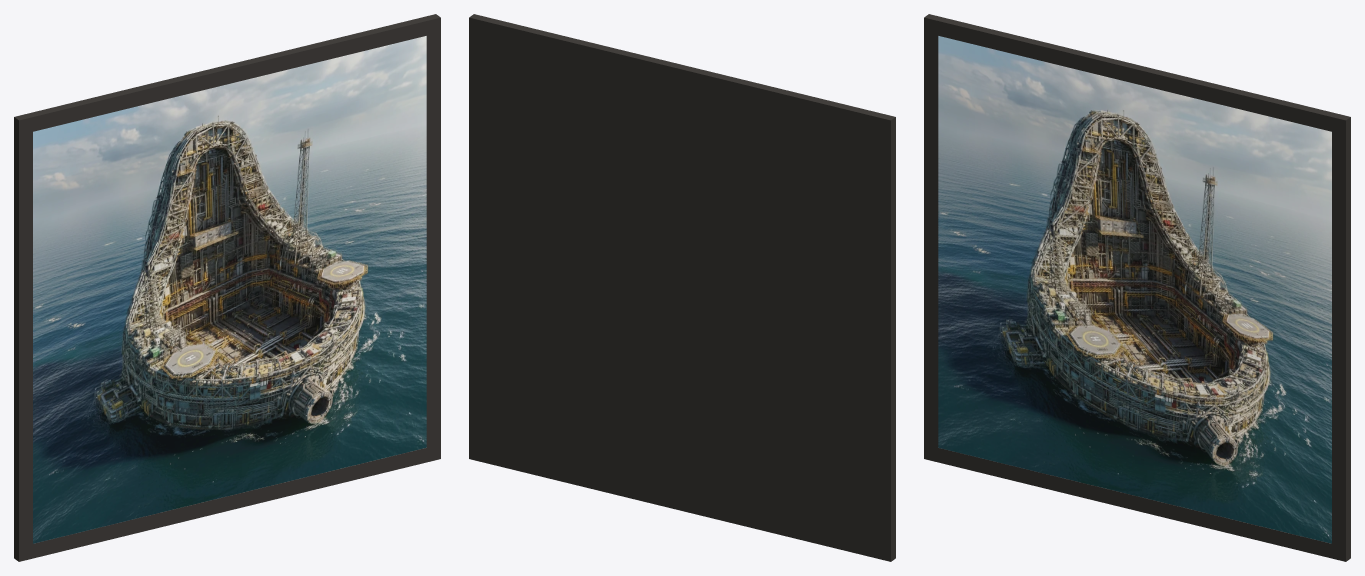
Rendered from picture_11_offshore_platform.glb.
The picture shows the model from 3 angles, left to right: view 1: azimuth 30°, elevation 25°; view 2: azimuth 150°, elevation 25°; view 3: azimuth 330°, elevation 25°; orthographic projection.
Visible parts, largest first — view 1: picture_11_offshore_platform_nocol; view 2: picture_11_offshore_platform_nocol; view 3: picture_11_offshore_platform_nocol.
Part boxes in pixels (x1,y1,x2,y2): picture_11_offshore_platform_nocol: (14,14,440,561); picture_11_offshore_platform_nocol: (469,14,895,561); picture_11_offshore_platform_nocol: (924,14,1350,561).
Size of the model in its own units: 1.5 by 1.5 by 0.03.
Materials: 2 (1 with a texture image).
